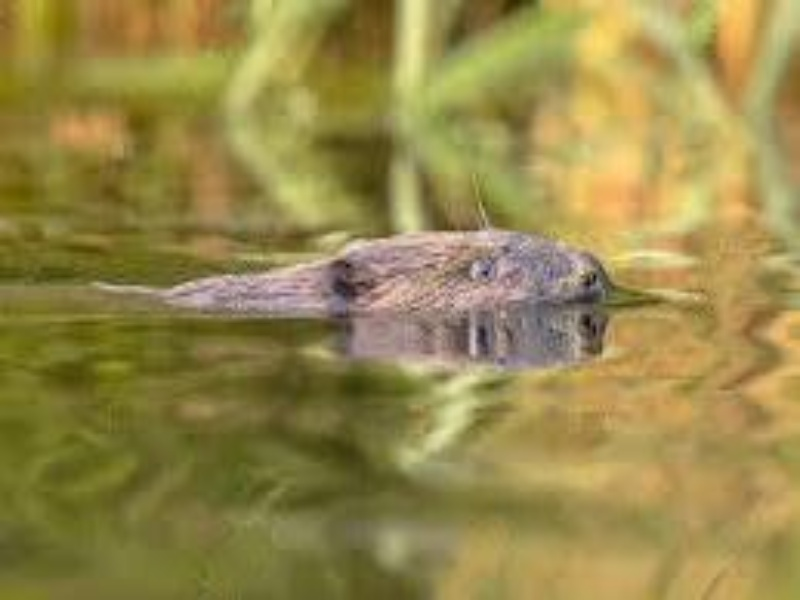minkish: (141, 227, 613, 307)
